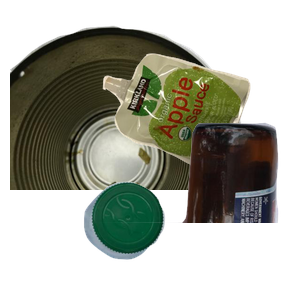glass: (87, 120, 300, 300)
metal: (10, 23, 250, 203)
plastic: (81, 179, 239, 300)
trash: (100, 51, 300, 214)
